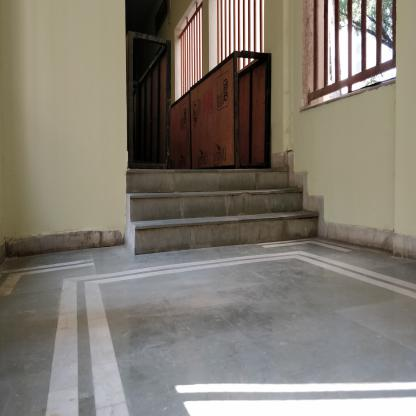stairs: (137, 167, 293, 254)
